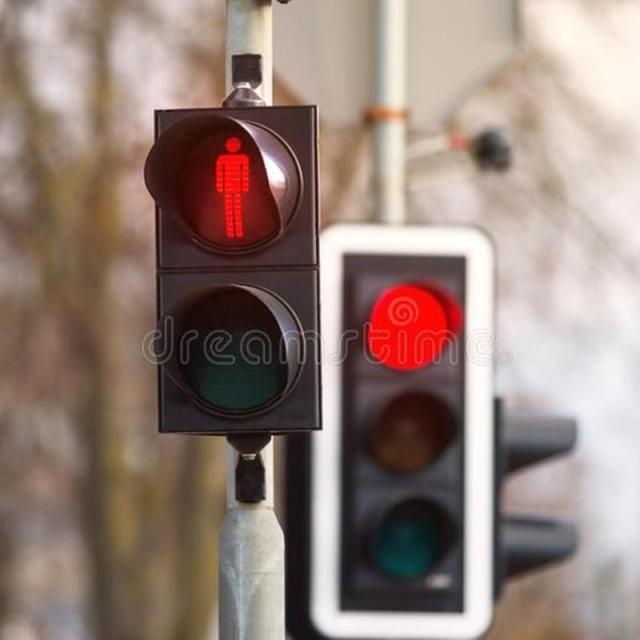red-light: (211, 131, 255, 244)
